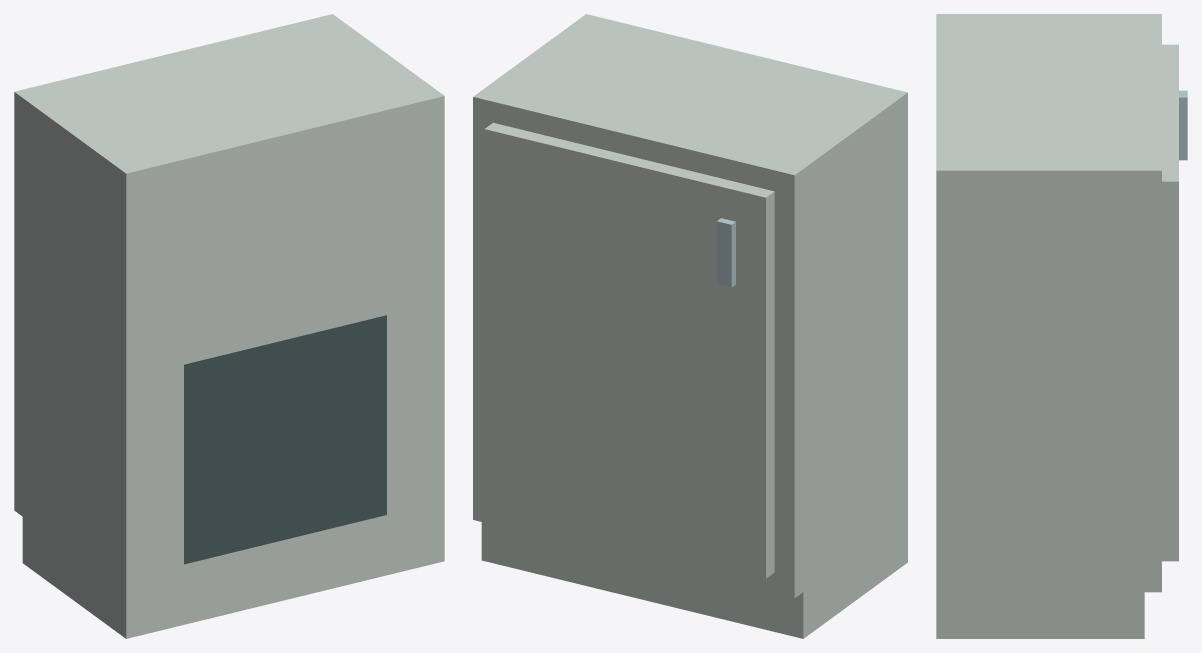
File: kitchenFridgeSmall.obj
3 renders of one model, left to right at view 1: azimuth 30°, elevation 25°; view 2: azimuth 150°, elevation 25°; view 3: azimuth 270°, elevation 25°, orthographic.
Parts seen in each view (by area): view 1: kitchenFridgeSmall; view 2: kitchenFridgeSmall, doorFridge; view 3: kitchenFridgeSmall, doorFridge.
Part boxes in pixels (box(x1,y1,x2,y2)): kitchenFridgeSmall: box(14, 14, 444, 638); kitchenFridgeSmall: box(473, 14, 907, 638); doorFridge: box(484, 122, 774, 578); kitchenFridgeSmall: box(936, 14, 1161, 638); doorFridge: box(1162, 44, 1187, 561).
Bounding box in the file's own units: 0.43 × 0.6002 × 0.2919.
